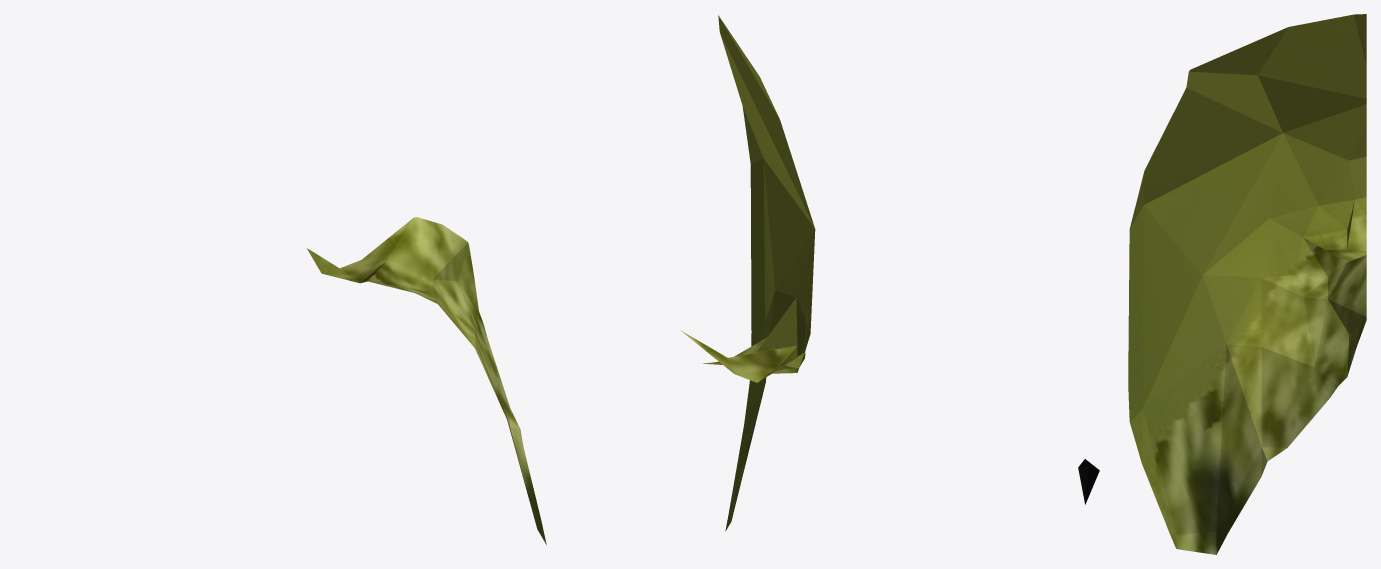
3 renders of one model, left to right at view 1: azimuth 30°, elevation 25°; view 2: azimuth 150°, elevation 25°; view 3: azimuth 270°, elevation 25°, orthographic. The views are drawn at different scales.
Size of the model in its own units: 1.81 by 1.92 by 0.8547.
Materials: 1 (1 with a texture image).
